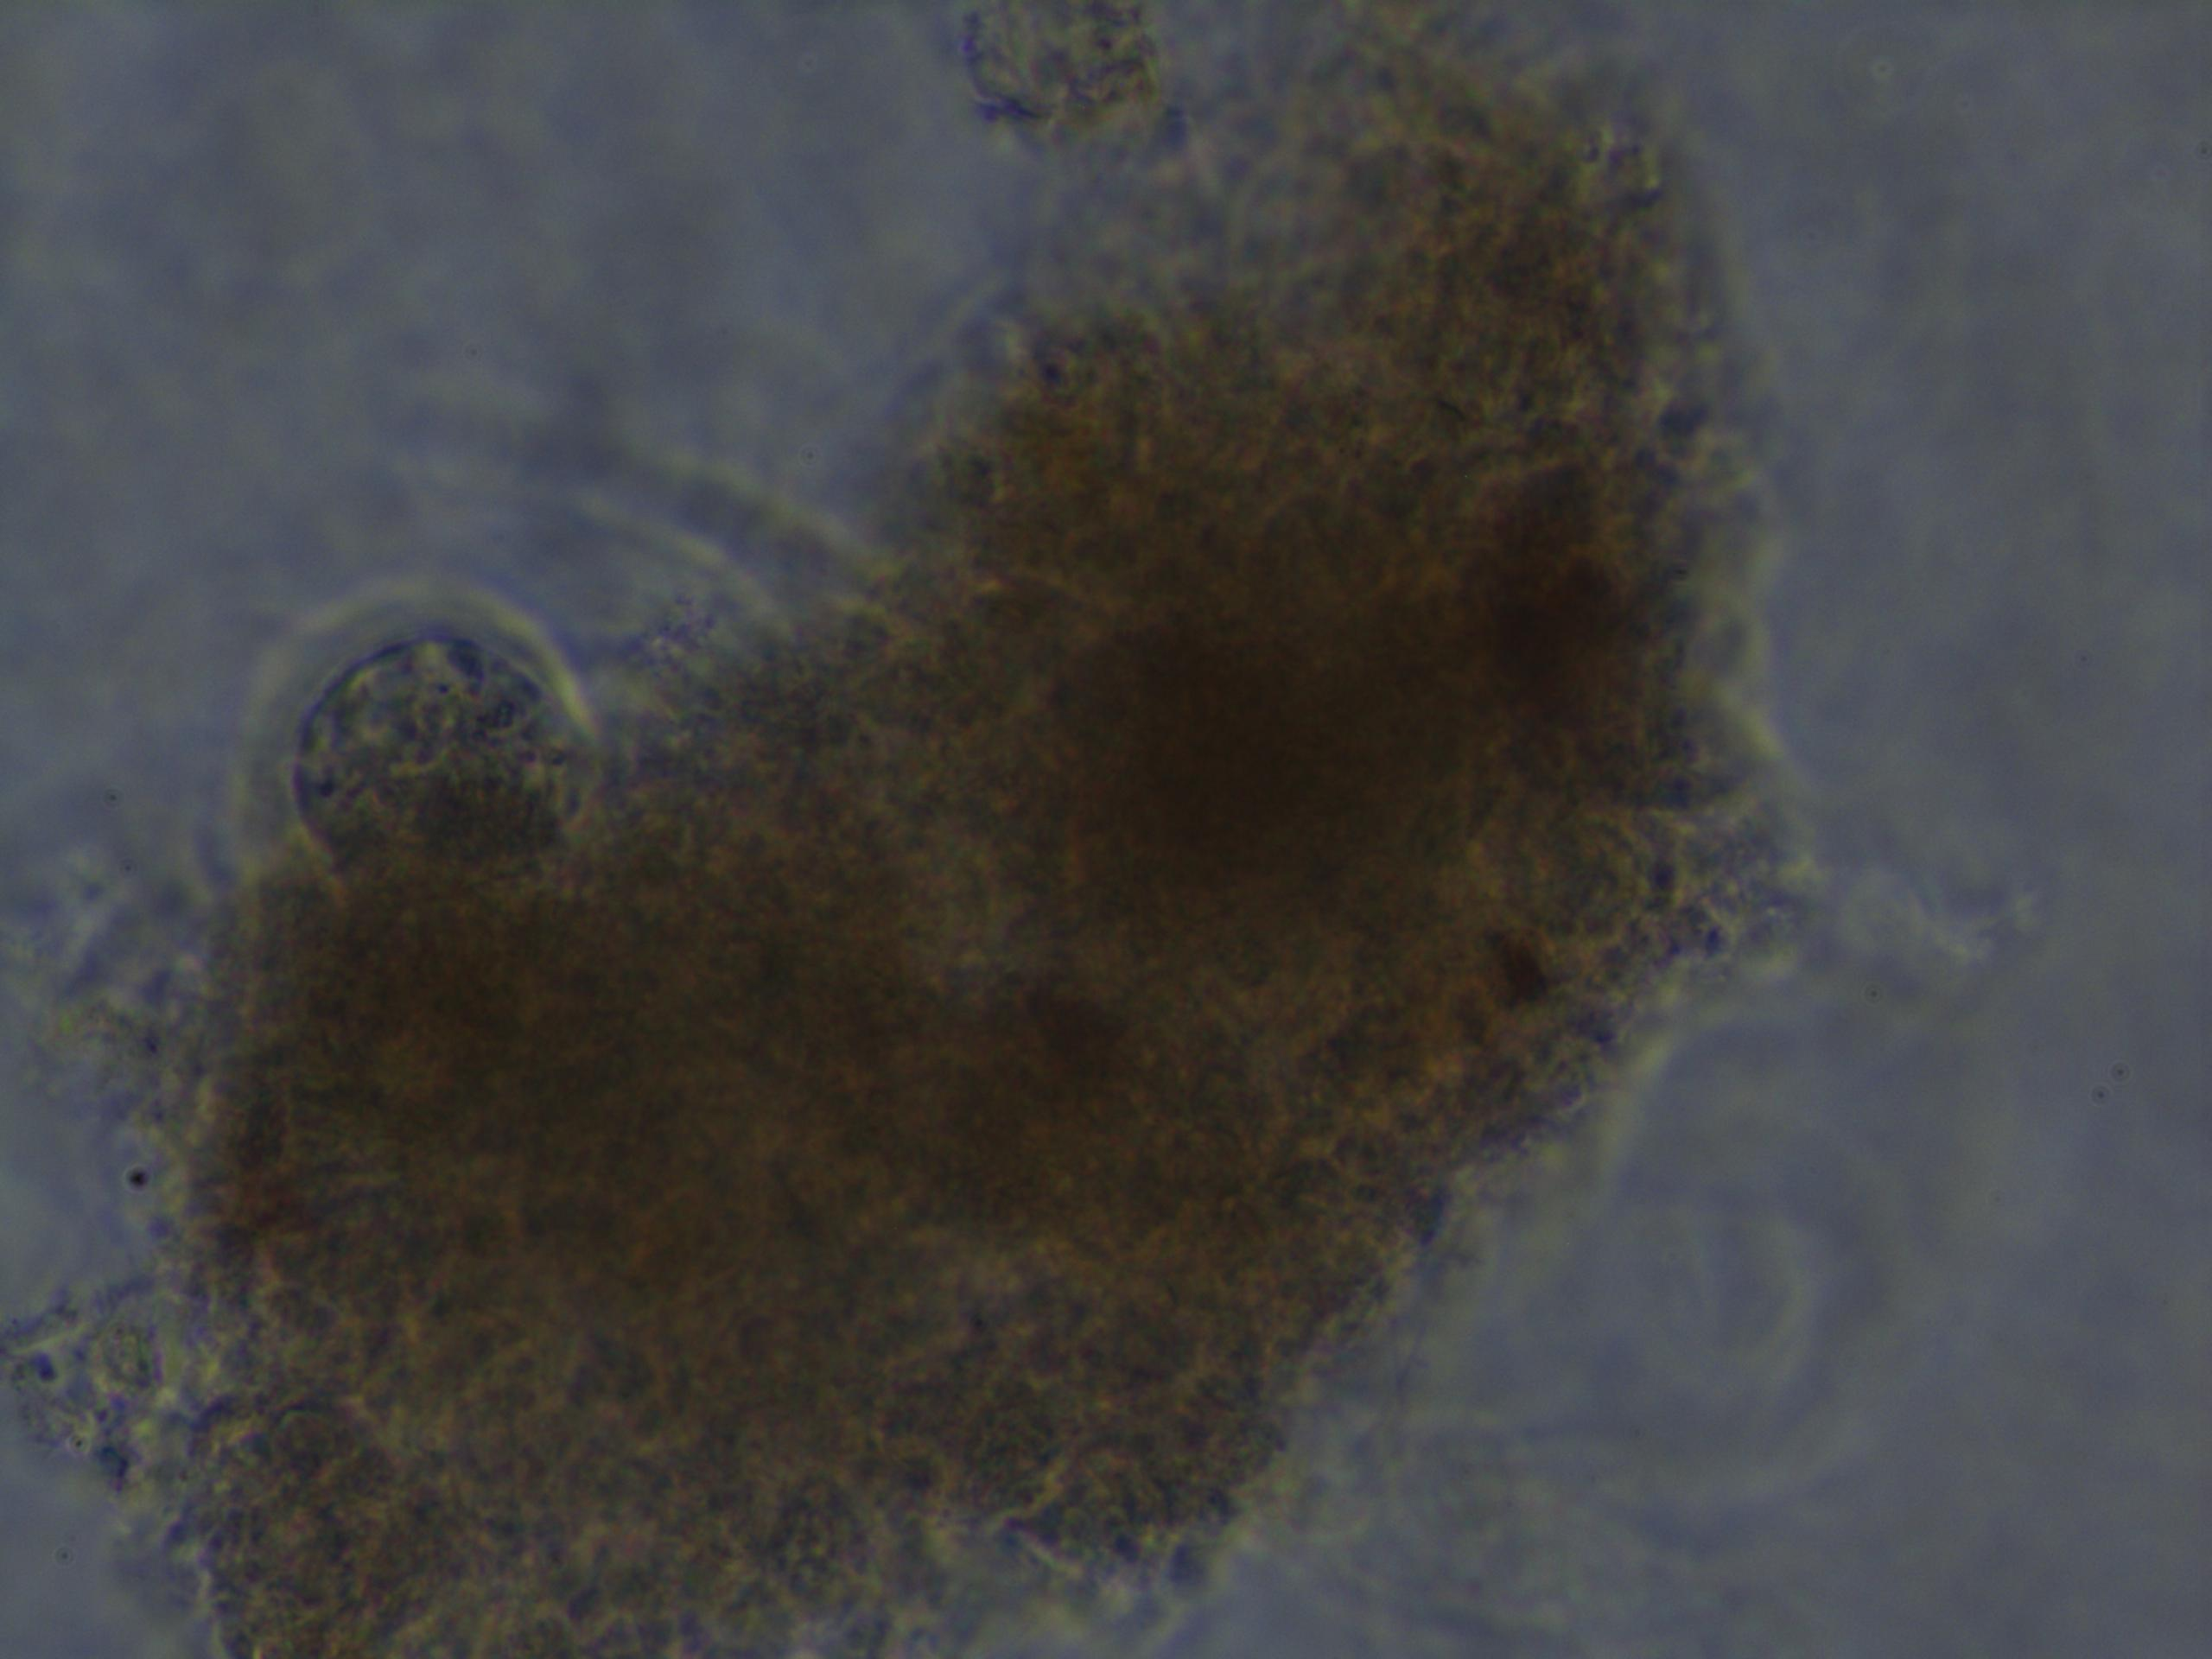spherical_floc: (84, 56, 1773, 1654)
